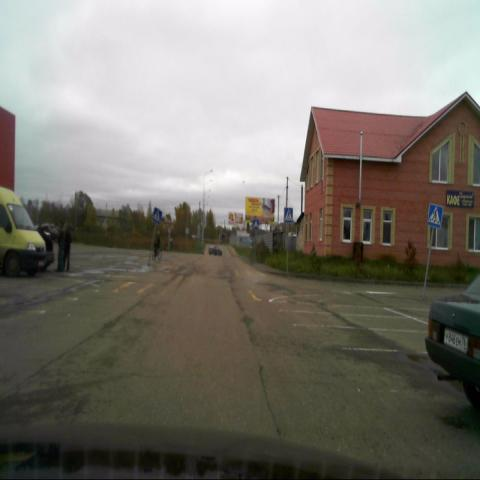5_19_1: (426, 201, 444, 231), (283, 206, 293, 224), (152, 205, 162, 222)
